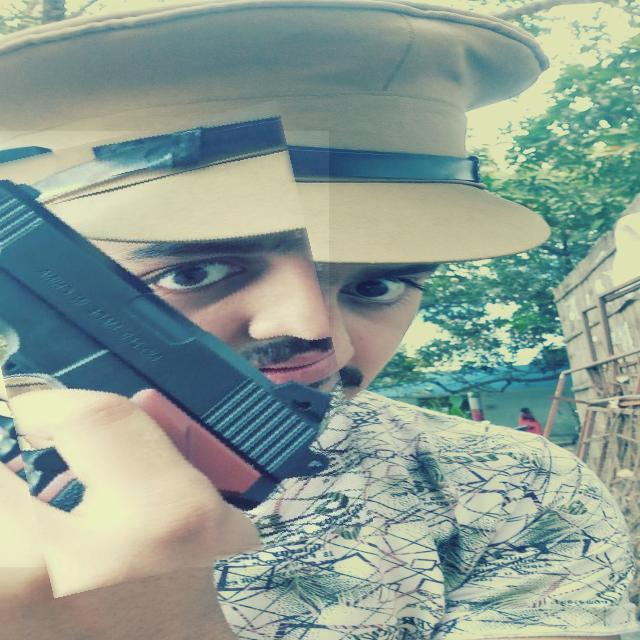handgun: (0, 115, 351, 582)
